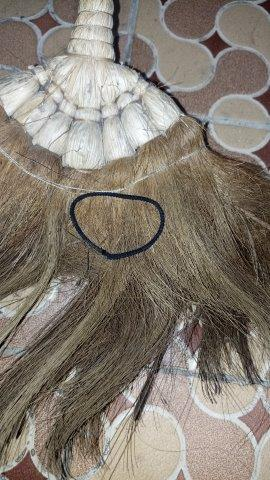karet: (70, 193, 166, 261)
